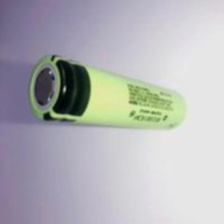battery: (25, 51, 190, 134)
